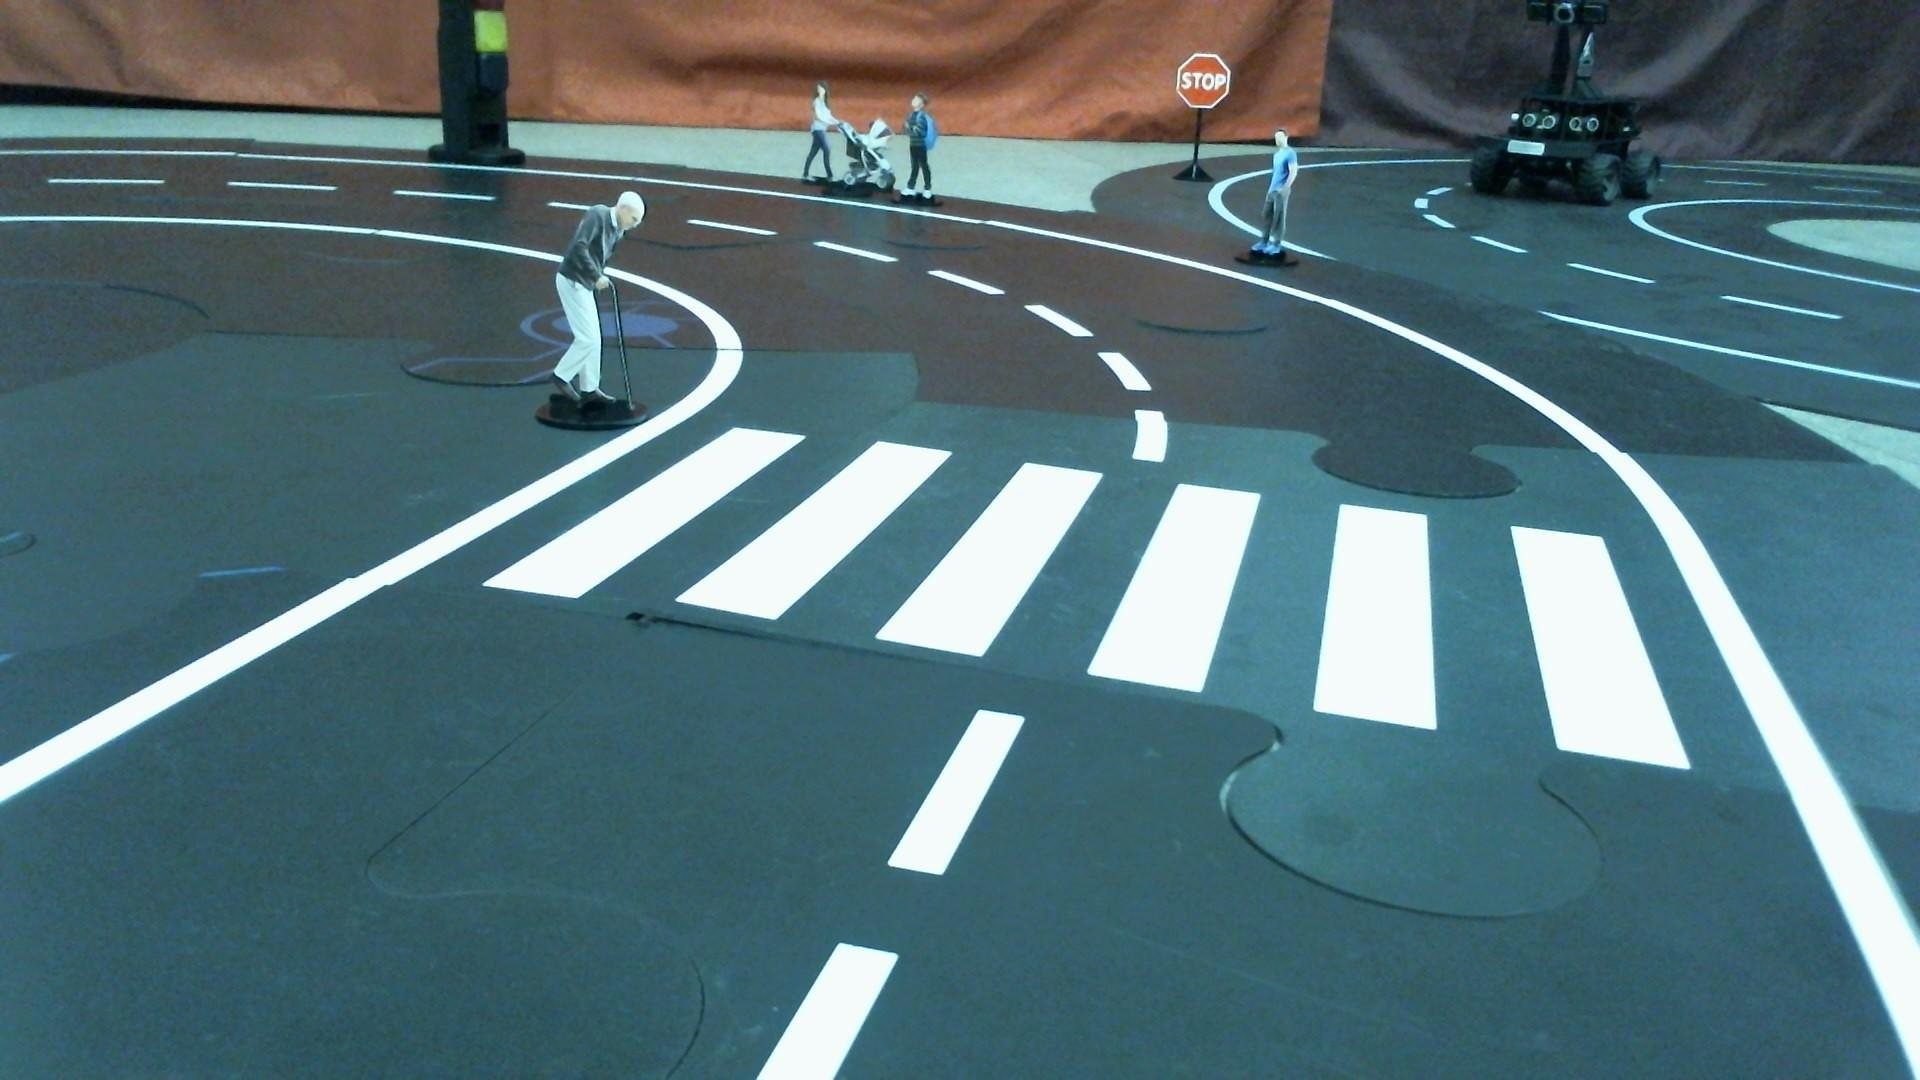crossing: (470, 415, 1777, 795)
person: (530, 185, 663, 438), (802, 80, 898, 200), (1248, 125, 1302, 260), (903, 97, 945, 202)
